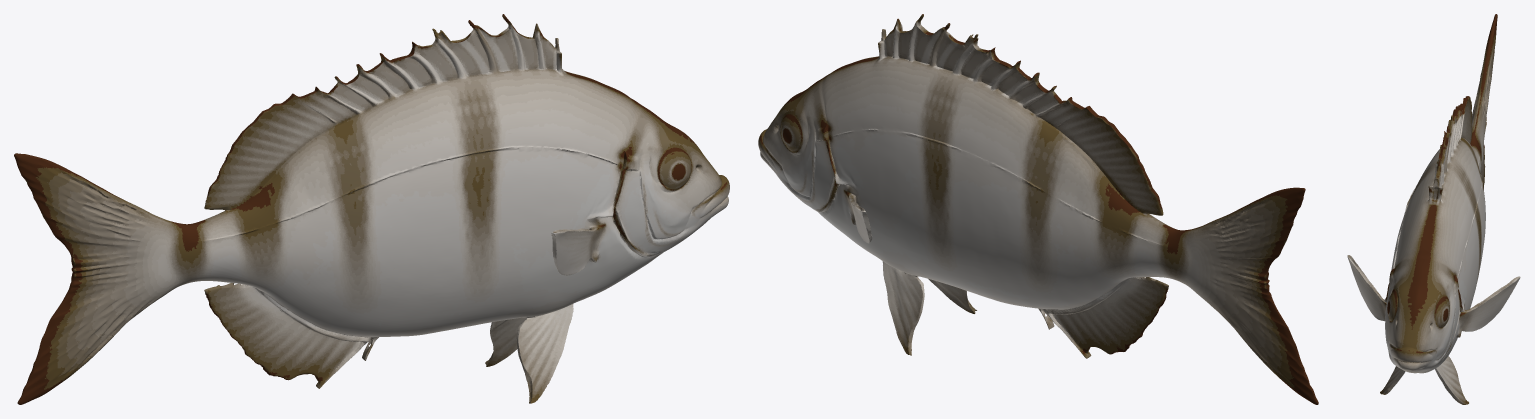
The model's file is white_seabreamsargo_fish_diplodus_sargus.glb.
3 renders of one model, left to right at view 1: azimuth 30°, elevation 25°; view 2: azimuth 150°, elevation 25°; view 3: azimuth 270°, elevation 25°, orthographic. The views are drawn at different scales.
Visible parts, largest first — view 1: Object_8, Object_7, Object_3, Object_6, Object_14, Object_12, Object_2, Object_10, Object_11, Object_4, Object_13, Object_16 (+4 smaller); view 2: Object_8, Object_7, Object_3, Object_10, Object_2, Object_14, Object_12, Object_11, Object_6, Object_13, Object_15, Object_16 (+4 smaller); view 3: Object_15, Object_5, Object_7, Object_6, Object_12, Object_3, Object_2, Object_10, Object_4, Object_11, Object_14, Object_13 (+4 smaller).
Part boxes in pixels (x1,y1,x2,y2): Object_8: [211, 153, 712, 332]; Object_7: [206, 47, 721, 336]; Object_3: [80, 26, 729, 390]; Object_6: [156, 37, 725, 353]; Object_14: [124, 27, 729, 383]; Object_12: [42, 23, 729, 403]; Object_2: [42, 25, 729, 391]; Object_10: [110, 26, 729, 385]; Object_11: [42, 24, 729, 394]; Object_4: [151, 30, 727, 356]; Object_13: [142, 26, 728, 369]; Object_16: [134, 24, 728, 376]; Object_8: [772, 132, 1159, 306]; Object_7: [767, 47, 1163, 323]; Object_3: [758, 22, 1255, 349]; Object_10: [758, 22, 1239, 348]; Object_2: [758, 21, 1287, 353]; Object_14: [759, 22, 1226, 344]; Object_12: [758, 20, 1285, 375]; Object_11: [758, 21, 1287, 363]; Object_6: [763, 32, 1199, 327]; Object_13: [760, 25, 1210, 334]; Object_15: [759, 15, 1294, 387]; Object_16: [759, 24, 1217, 336]; Object_15: [1380, 34, 1495, 404]; Object_5: [1385, 14, 1497, 402]; Object_7: [1347, 125, 1519, 374]; Object_6: [1348, 121, 1519, 378]; Object_12: [1378, 44, 1494, 404]; Object_3: [1350, 77, 1514, 402]; Object_2: [1348, 63, 1509, 402]; Object_10: [1350, 101, 1516, 400]; Object_4: [1348, 117, 1518, 385]; Object_11: [1349, 52, 1494, 403]; Object_14: [1349, 113, 1518, 399]; Object_13: [1349, 115, 1519, 393].
Size of the model in its own units: 99.33 by 52.18 by 30.52.
